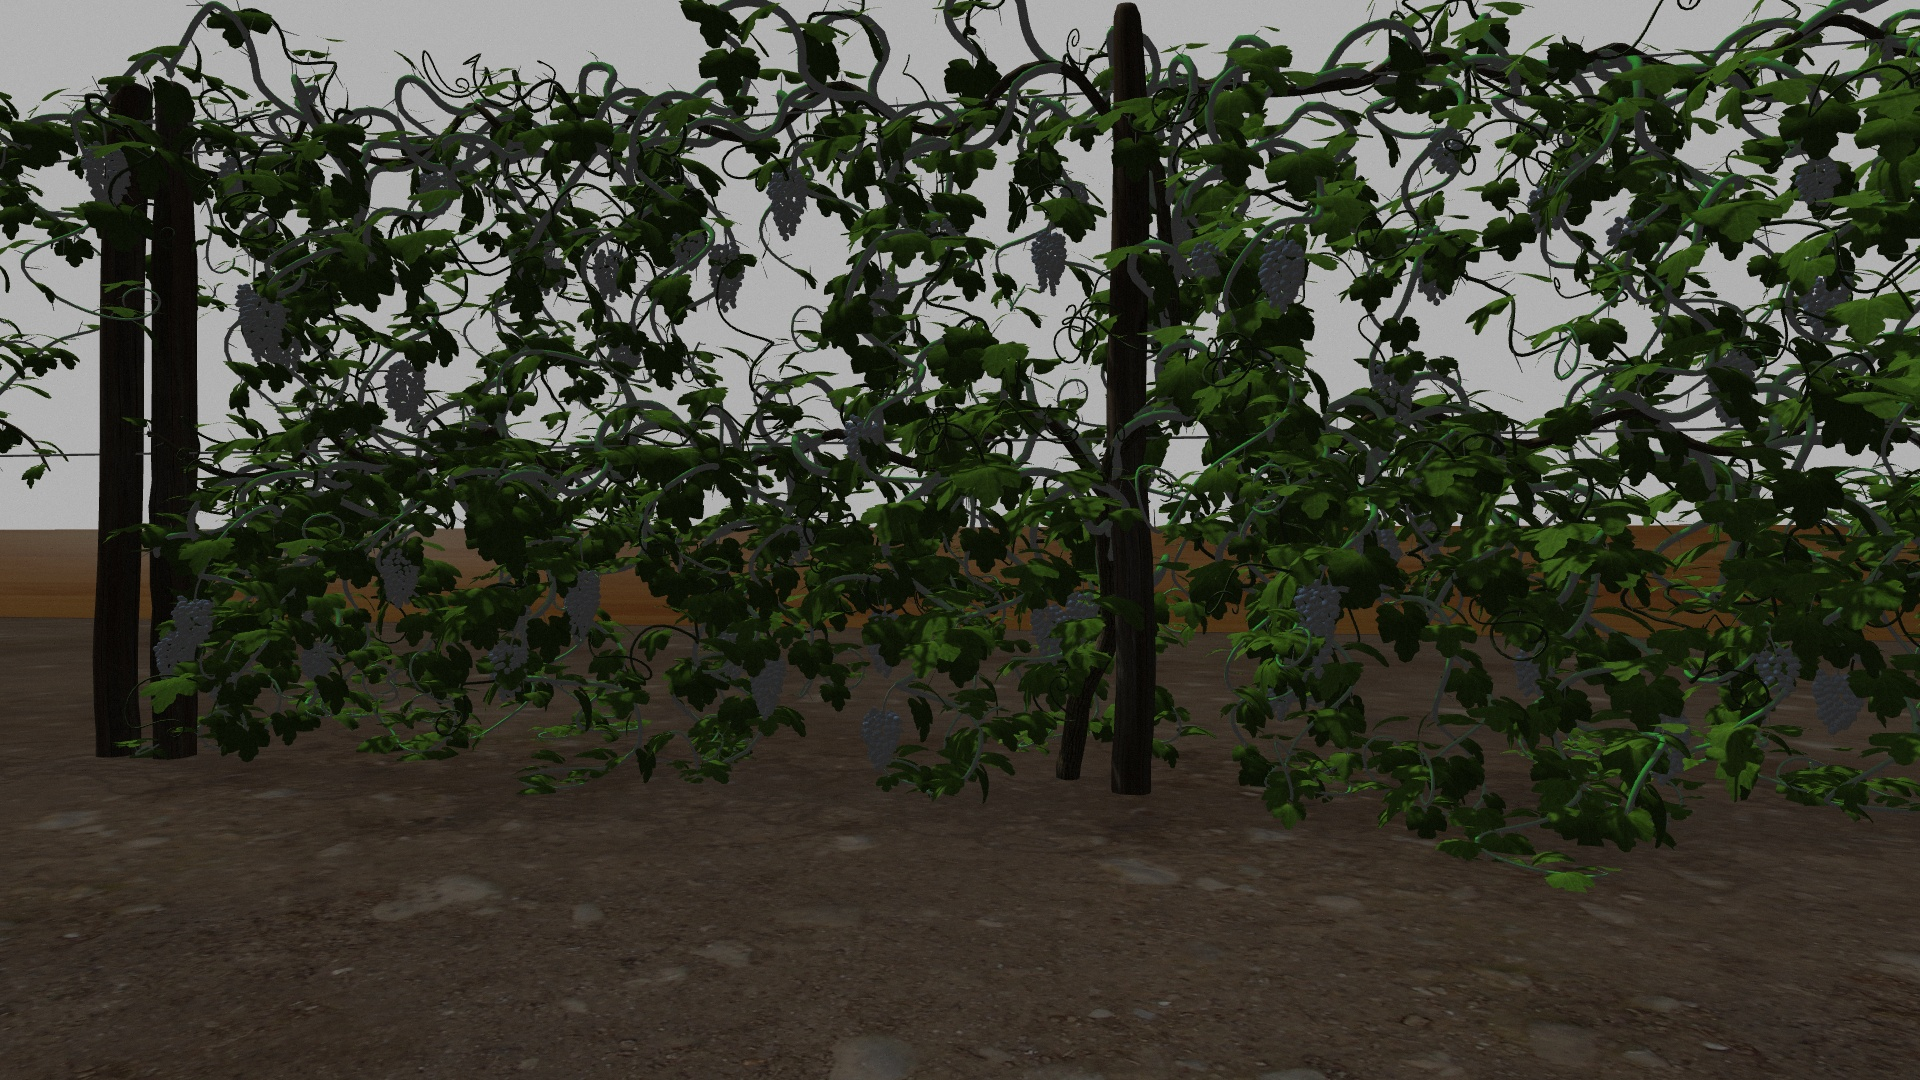grape: (233, 282, 286, 361), (1812, 666, 1865, 736), (1292, 585, 1342, 655), (83, 141, 131, 211), (1259, 233, 1305, 305), (767, 166, 808, 241), (377, 543, 421, 609), (862, 708, 905, 775), (384, 357, 427, 422), (564, 566, 603, 638), (1029, 229, 1069, 295), (708, 243, 746, 313), (1753, 647, 1805, 696), (750, 657, 786, 721), (1793, 156, 1841, 202), (171, 596, 214, 647), (843, 417, 881, 468), (295, 630, 335, 679), (593, 251, 630, 302), (153, 640, 194, 679), (1029, 608, 1063, 653), (1189, 239, 1222, 280), (491, 641, 527, 675), (1064, 592, 1098, 621)
